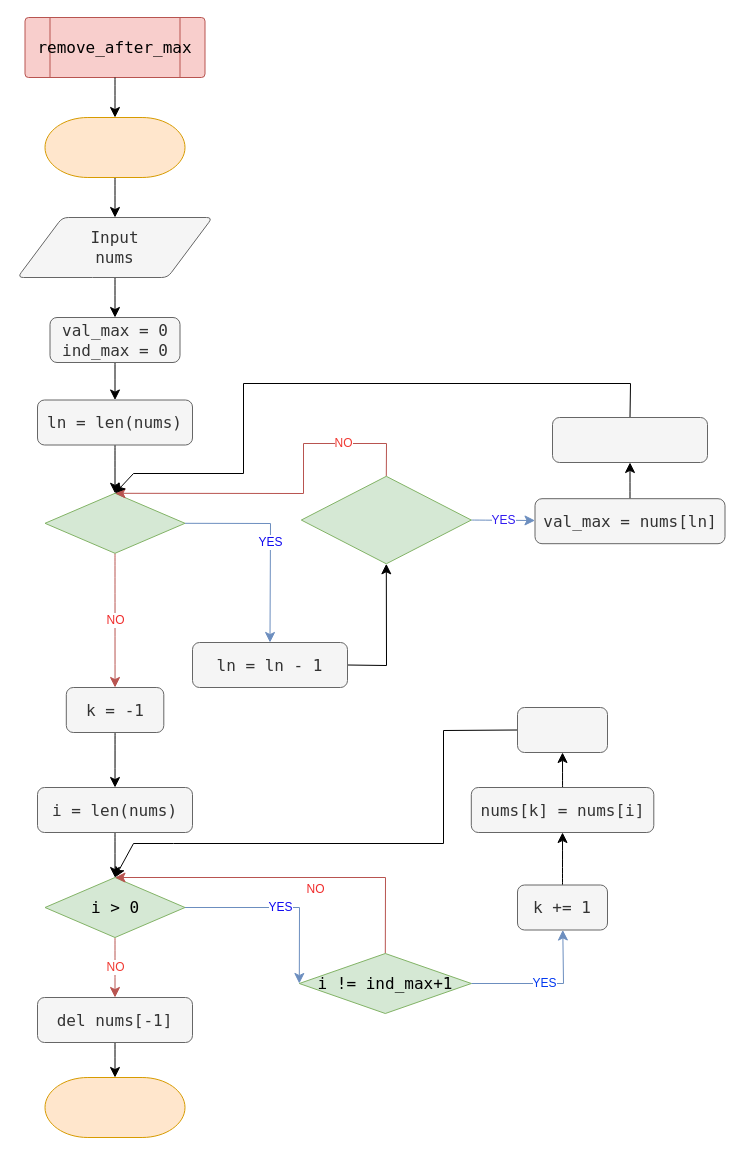
Some shapes in this 743 by 1155 pixel diagram are drawn without their labels. Each missing label, with the box of its shape:
END: (44, 1076, 185, 1138)
i = i -1: (516, 706, 608, 752)
ind_max = ind: (552, 416, 708, 462)
ln > 0: (44, 492, 185, 553)
nums[ln]>val_max: (300, 475, 471, 564)
Start: (44, 116, 185, 178)
